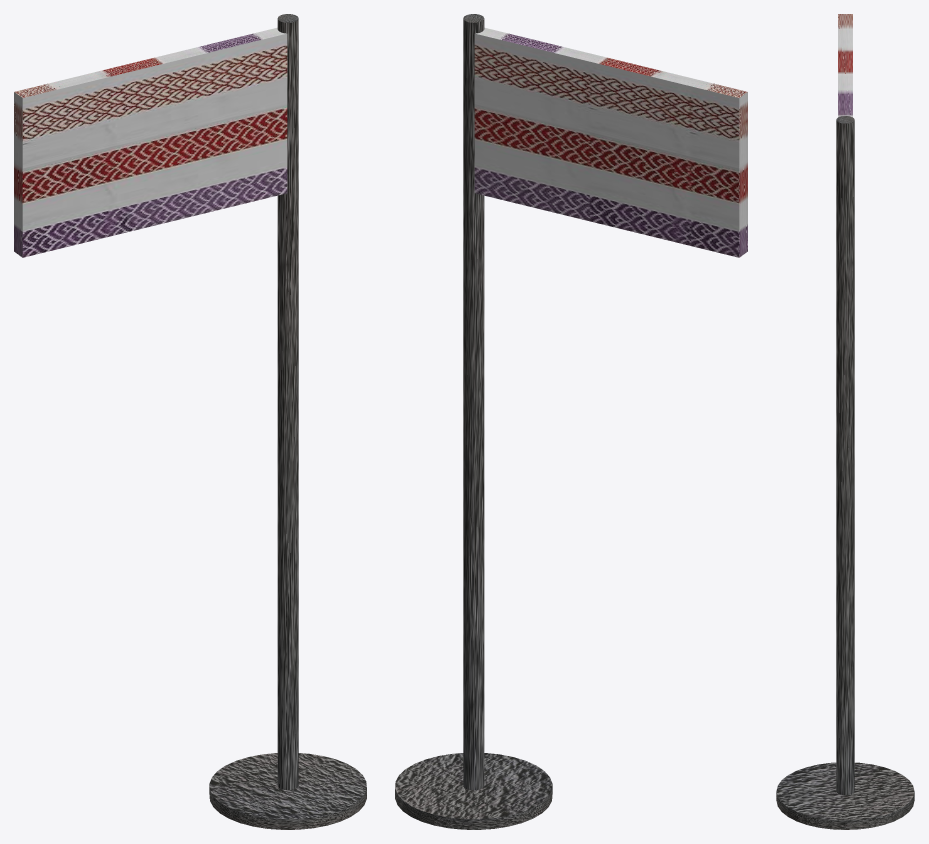
Rendered from bandera.fbx.
The picture shows the model from 3 angles, left to right: view 1: azimuth 30°, elevation 25°; view 2: azimuth 150°, elevation 25°; view 3: azimuth 270°, elevation 25°; orthographic projection. The views are drawn at different scales.
Visible parts, largest first — view 1: Cube.002; view 2: Cube.002; view 3: Cube.002.
Boxes of the visible parts, x1,y1,x2,y2 form: Cube.002: (14,14,366,829); Cube.002: (395,14,747,829); Cube.002: (776,14,914,829).
Size of the model in its own units: 280 by 616 by 113.
